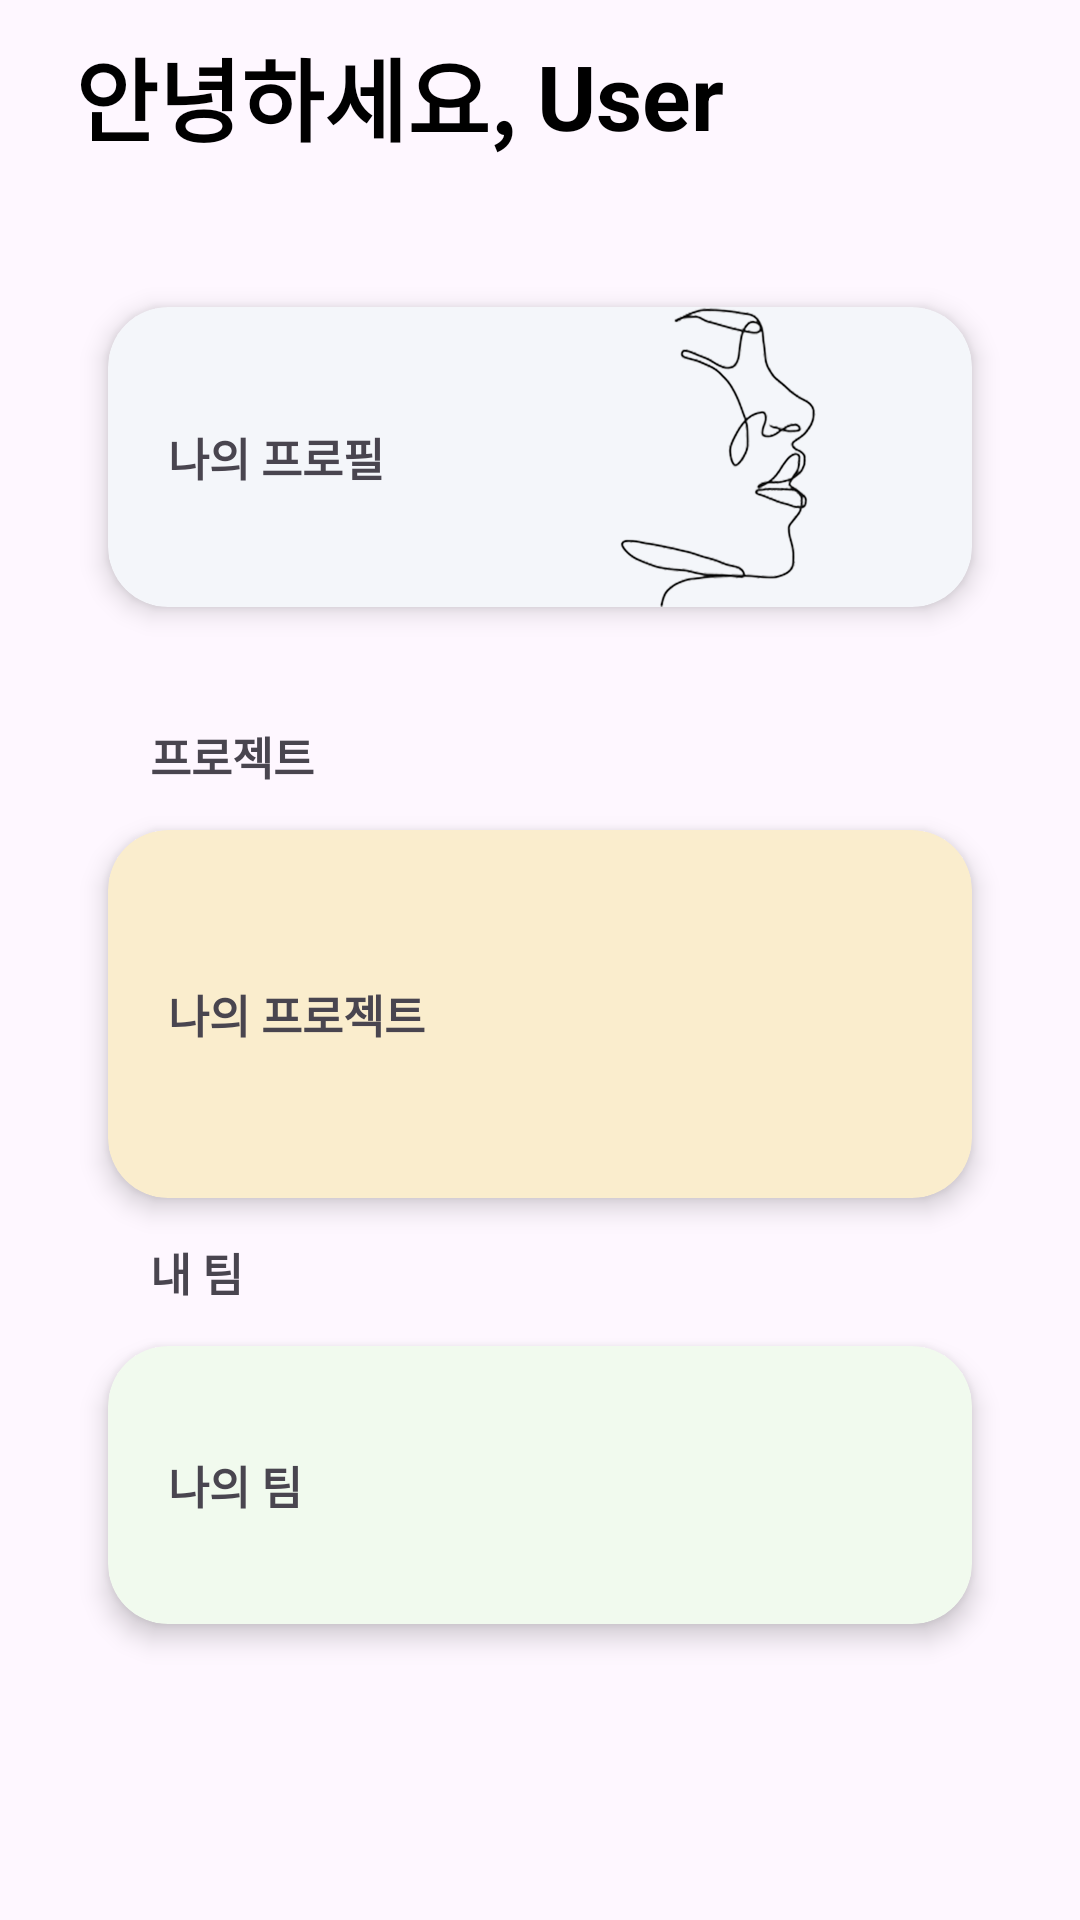

Icons on this 1080x1920 Android screen, each with its box as (x1, y1, x2, y2):
profile main: (621, 308, 816, 607)
